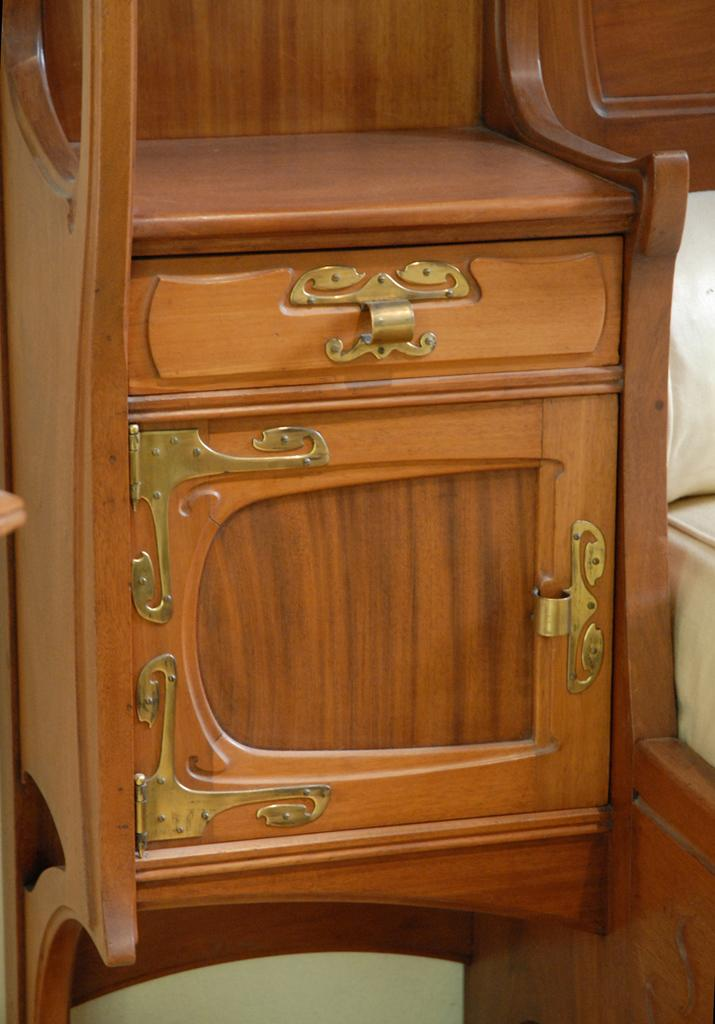cabinet_door: (129, 430, 605, 804), (127, 260, 609, 367)
handle: (362, 290, 421, 363), (540, 570, 574, 678)
